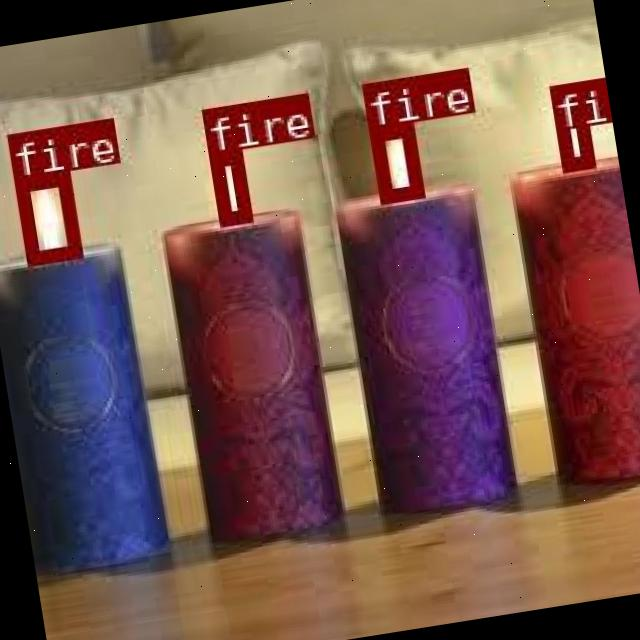fire: (12, 170, 78, 264), (368, 122, 420, 202), (548, 80, 592, 170), (208, 148, 250, 222)
